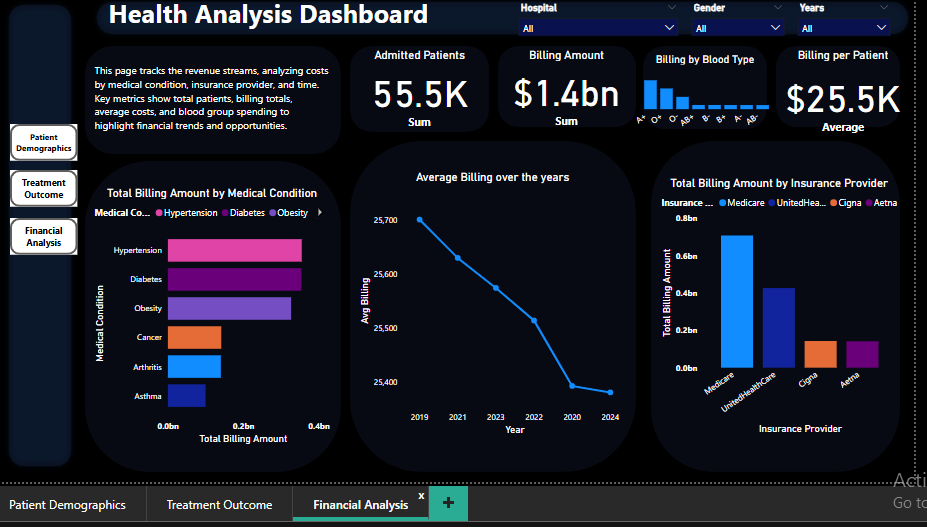

The dashboard page shown, as its layout file describes it:
{"tool":"powerbi","page":{"name":"Financial Analysis","canvas":[1350,720],"ordinal":2},"visuals":[{"type":"shape","box":[141.1,5.9,1209.3,64.7],"z":0},{"type":"textbox","box":[161.6,0,689.1,127.8],"z":1000},{"type":"shape","box":[11.8,10.3,108.7,695],"z":2000},{"type":"shape","box":[132.2,79.3,376.2,158.7],"z":3000},{"type":"shape","box":[963.9,218.9,365.9,486.4],"z":4000},{"type":"shape","box":[739.1,79.3,202.8,119],"z":5000},{"type":"shape","box":[1147.6,79.3,182.2,119],"z":6000},{"type":"shape","box":[521.6,79.3,204.2,126.4],"z":7000},{"type":"shape","box":[132.2,248.3,376.2,457],"z":8000},{"type":"shape","box":[521.6,218.9,420.2,486.4],"z":9000},{"type":"slicer","fields":{"Values":["Data.Hospital"]},"box":[759.7,10.3,254.2,54.4],"z":10000},{"type":"shape","box":[952.2,79.3,182.2,122],"z":11000},{"type":"card","title":"Billing Amount","fields":{"Values":["Data.Total Billing Amount"]},"box":[731.8,82.3,216,119],"z":12000},{"type":"card","title":"Billing per Patient","fields":{"Values":["Data.Avg Billing"]},"box":[1147.6,82.3,196.9,136.7],"z":13000},{"type":"barChart","title":"Total Billing Amount by Medical Condition ","fields":{"Category":["Data.Medical Condition"],"Y":["Data.Total Billing Amount"],"Series":["Data.Medical Condition"]},"box":[141.1,285.1,355.6,385],"z":14000},{"type":"lineChart","title":"Average Billing over the  years","fields":{"Category":["Calendar.Year"],"Y":["Data.Avg Billing"]},"box":[530.4,257.1,401.1,398.2],"z":15000},{"type":"slicer","fields":{"Values":["Data.Gender"]},"box":[1013.9,10.3,155.8,54.4],"z":16000},{"type":"columnChart","title":"Total Billing Amount by Insurance Provider ","fields":{"Category":["Data.Insurance Provider"],"Y":["Data.Total Billing Amount"],"Series":["Data.Insurance Provider"]},"box":[974.2,270.4,355.6,385],"z":17000},{"type":"card","title":"Admitted Patients","fields":{"Values":["Data.Total Nunber of Patients"]},"box":[521.6,77.9,204.2,126.4],"z":18000},{"type":"slicer","fields":{"Values":["Data.Years"]},"box":[1169.6,10.3,155.8,54.4],"z":19000},{"type":"columnChart","title":"Billing by Blood Type","fields":{"Category":["Data.Blood Type"],"Y":["Sum(Data.Billing Amount)"]},"box":[934.5,83.8,217.5,148.4],"z":20000},{"type":"textbox","box":[141.1,99.9,355.6,132.2],"z":20001},{"type":"actionButton","title":"Demographics","box":[21.6,194.7,99.1,54.1],"z":20002},{"type":"actionButton","title":"Demographics","box":[21.6,261.3,99.1,54.1],"z":20003},{"type":"actionButton","title":"Demographics","box":[21.6,331.6,99.1,54.1],"z":20004}]}

Visuals, with their boxes on the page's 1350x720 design canvas (x1, y1, x2, y2). These are canvas units, not pixel positions in the 927x527 screenshot, which may show the page scaled, cropped or inside an application window:
shape: detection(141, 6, 1350, 71)
textbox: detection(162, 0, 851, 128)
shape: detection(12, 10, 120, 705)
shape: detection(132, 79, 508, 238)
shape: detection(964, 219, 1330, 705)
shape: detection(739, 79, 942, 198)
shape: detection(1148, 79, 1330, 198)
shape: detection(522, 79, 726, 206)
shape: detection(132, 248, 508, 705)
shape: detection(522, 219, 942, 705)
slicer - Data.Hospital: detection(760, 10, 1014, 65)
shape: detection(952, 79, 1134, 201)
"Billing Amount" card: detection(732, 82, 948, 201)
"Billing per Patient" card: detection(1148, 82, 1344, 219)
"Total Billing Amount by Medical Condition " barChart: detection(141, 285, 497, 670)
"Average Billing over the  years" lineChart: detection(530, 257, 932, 655)
slicer - Data.Gender: detection(1014, 10, 1170, 65)
"Total Billing Amount by Insurance Provider " columnChart: detection(974, 270, 1330, 655)
"Admitted Patients" card: detection(522, 78, 726, 204)
slicer - Data.Years: detection(1170, 10, 1325, 65)
"Billing by Blood Type" columnChart: detection(934, 84, 1152, 232)
textbox: detection(141, 100, 497, 232)
"Demographics" actionButton: detection(22, 195, 121, 249)
"Demographics" actionButton: detection(22, 261, 121, 315)
"Demographics" actionButton: detection(22, 332, 121, 386)
